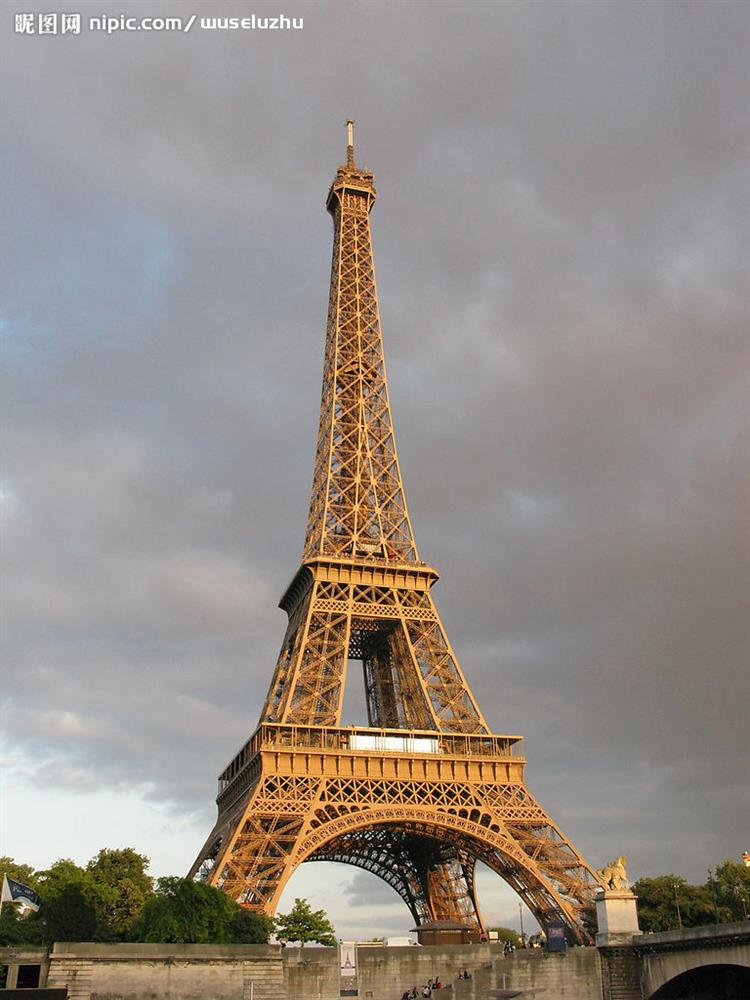Eiffel: (233, 127, 609, 922)
